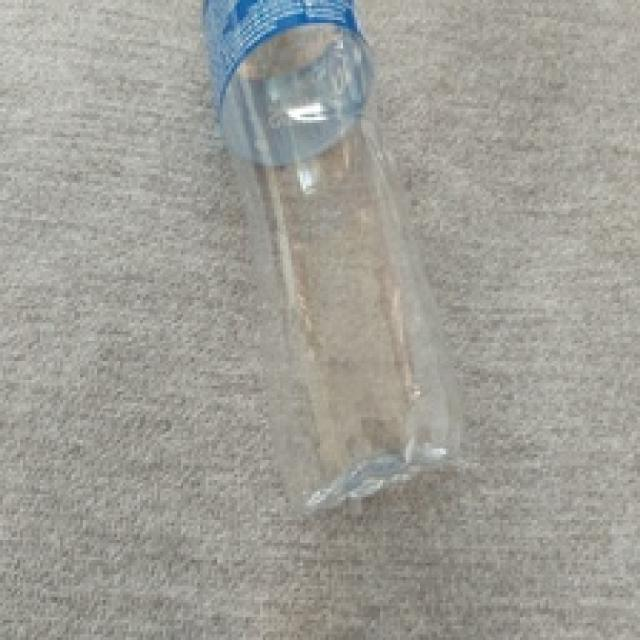Plastic: (204, 0, 469, 518)
